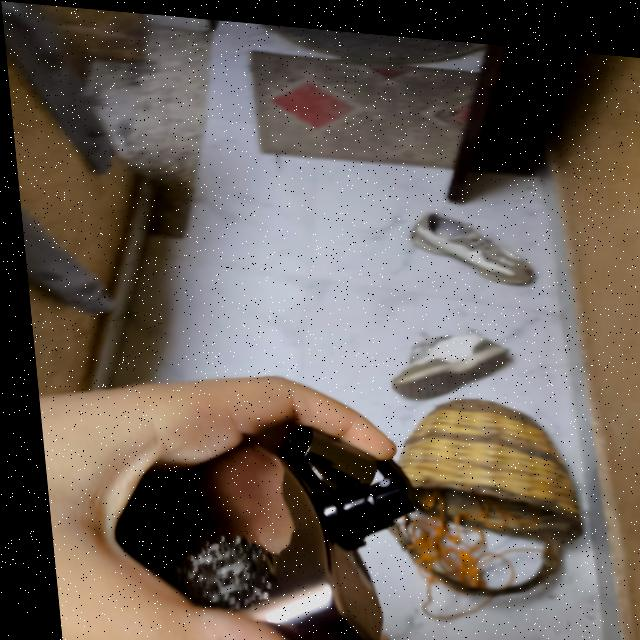Afnan: (89, 403, 420, 640)
